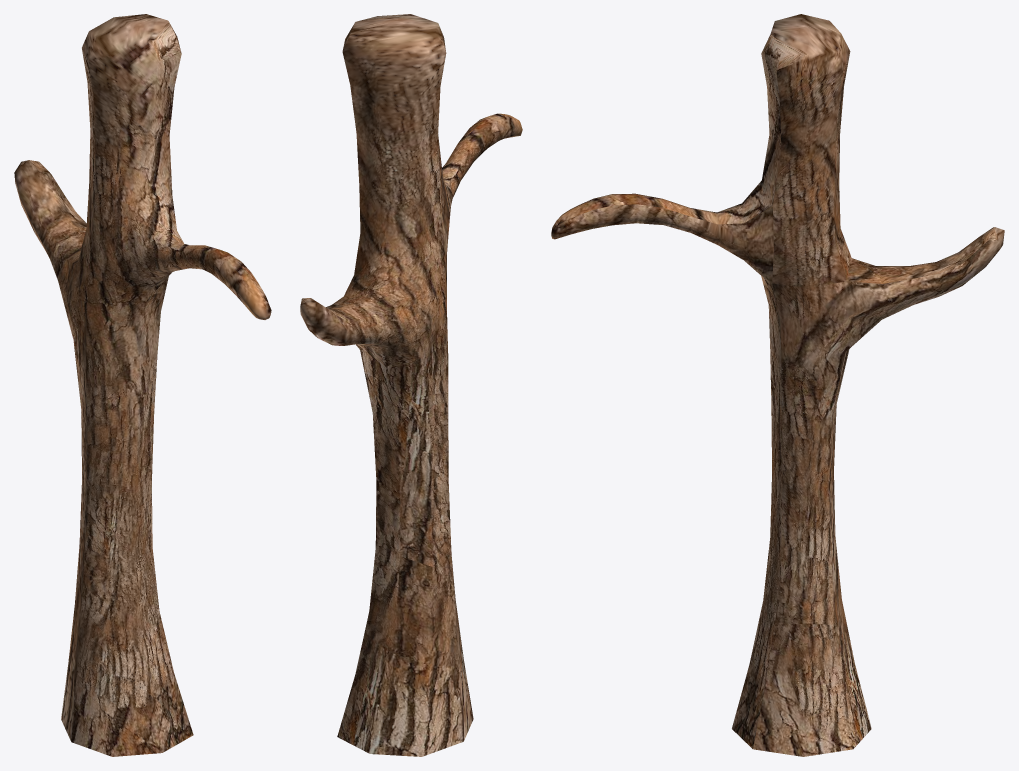
File: tree.fbx
3 renders of one model, left to right at view 1: azimuth 30°, elevation 25°; view 2: azimuth 150°, elevation 25°; view 3: azimuth 270°, elevation 25°, orthographic.
Parts seen in each view (by area): view 1: Arvore; view 2: Arvore; view 3: Arvore.
Boxes of the visible parts, x1,y1,x2,y2 form: Arvore: [14, 14, 271, 756]; Arvore: [300, 14, 522, 756]; Arvore: [551, 14, 1004, 756].
Bounding box in the file's own units: 192 × 1124 × 656.
